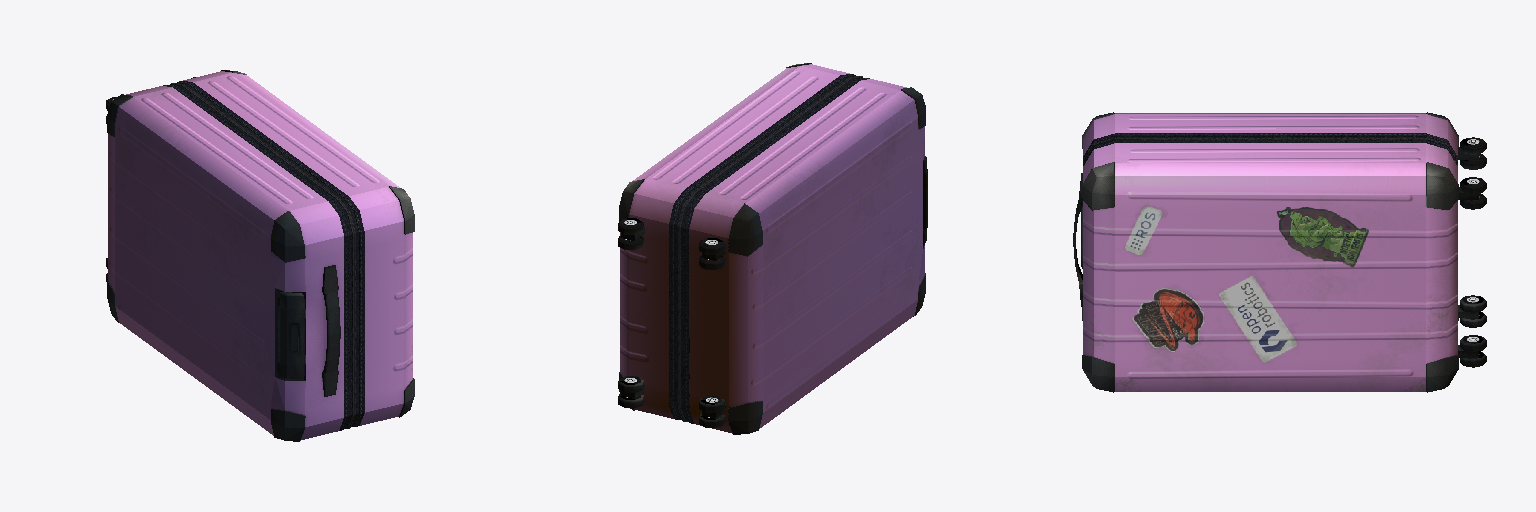
3 views of the same model, side by side, from view 1: azimuth 30°, elevation 25°; view 2: azimuth 150°, elevation 25°; view 3: azimuth 270°, elevation 25° (orthographic).
Visible parts, largest first — view 1: Suitcase2; view 2: Suitcase2; view 3: Suitcase2.
Boxes of the visible parts, <box> form: Suitcase2: <box>106,70,414,441</box>; Suitcase2: <box>618,63,927,434</box>; Suitcase2: <box>1073,112,1486,392</box>.
Bounding box in the file's own units: 0.2104 × 0.3487 × 0.5508.
1 materials, 1 textured.